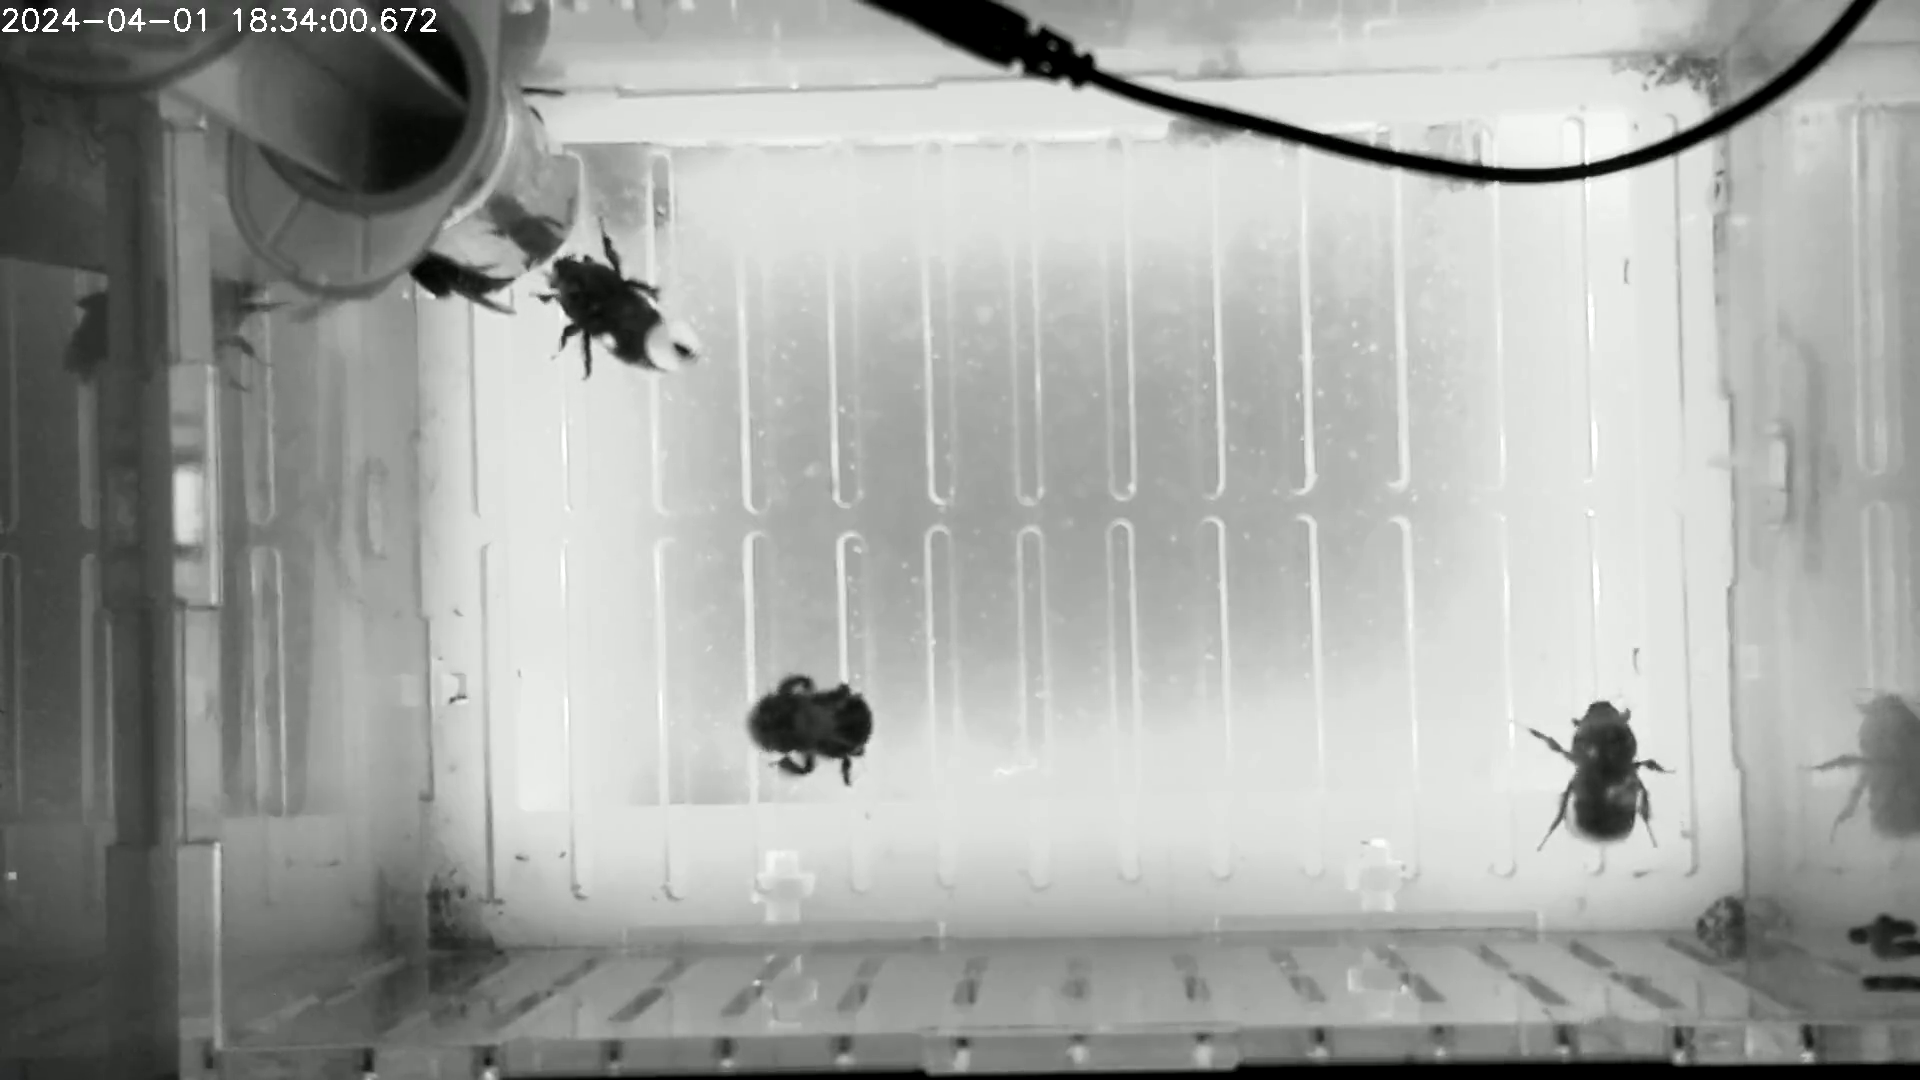bee: (521, 219, 713, 388), (1509, 683, 1677, 861), (733, 659, 882, 787), (397, 255, 524, 328)
feeder: (371, 82, 626, 339)
